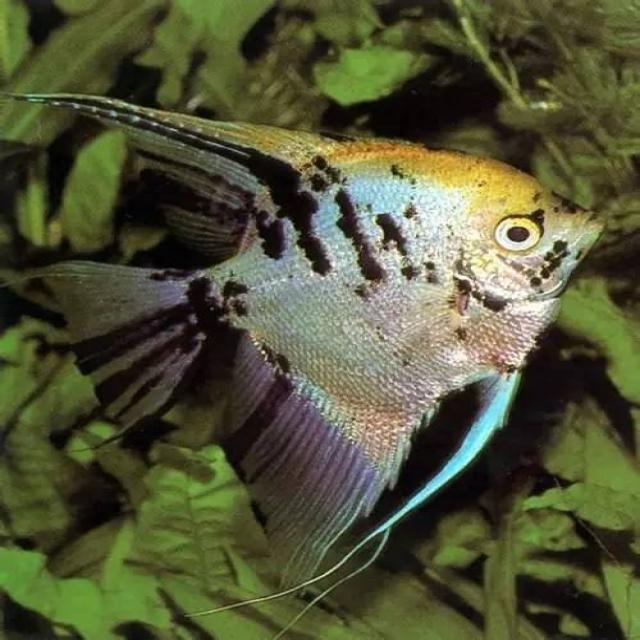AngelFish: (10, 81, 611, 636)
